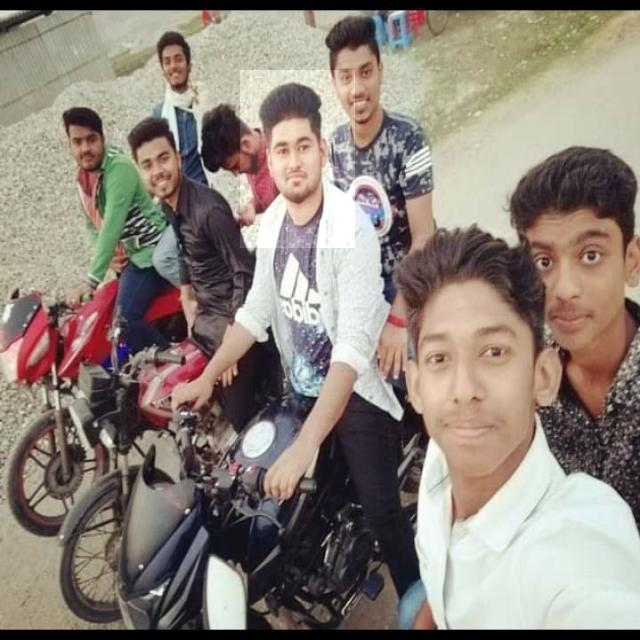No_Helmet: (240, 70, 355, 248)
